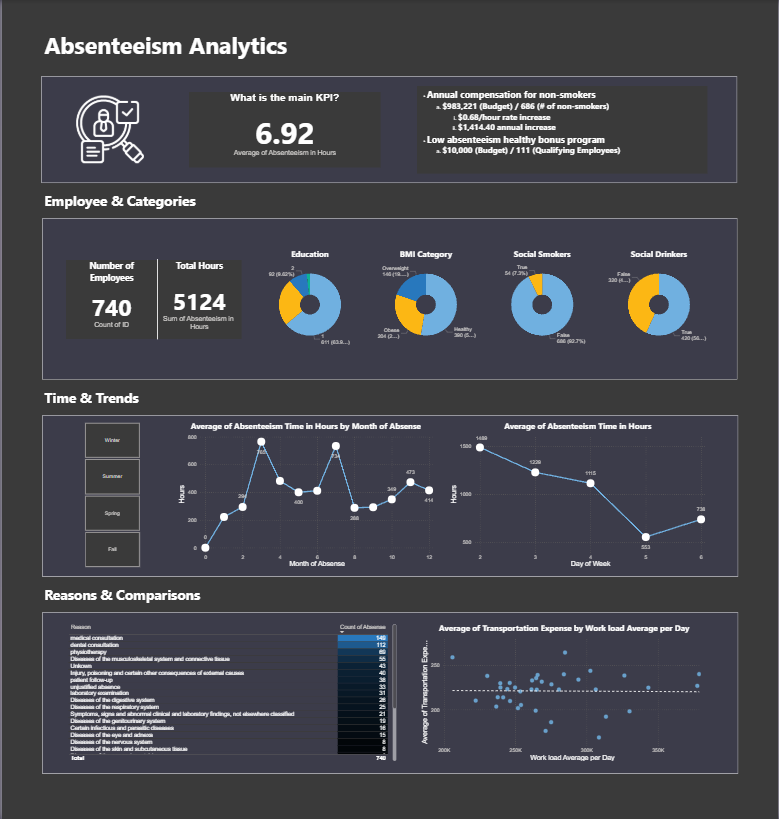

The dashboard page shown, as its layout file describes it:
{"tool":"powerbi","page":{"name":"Page 1","canvas":[1800,1900],"ordinal":0},"visuals":[{"type":"shape","box":[91.3,175.6,1613.3,248.2],"z":0},{"type":"shape","box":[92.9,505.7,1611.4,374.3],"z":1000},{"type":"shape","box":[93.3,1418.3,1613.3,375],"z":2000},{"type":"shape","box":[91.7,961.7,1613.3,375],"z":3000},{"type":"card","title":"Number of Employees","fields":{"Values":["CountNonNull(Query1.ID)"]},"box":[148.8,602.5,211.2,182.5],"z":4000},{"type":"donutChart","title":"Education","fields":{"Y":["Sum(Query1.Education)"],"Category":["Query1.Education"]},"box":[580,574.3,268.6,237.1],"z":5000},{"type":"donutChart","title":"BMI Category","fields":{"Category":["Query1.bmi_category"],"Y":["CountNonNull(Query1.bmi_category)"]},"box":[848.6,574.3,268.6,237.1],"z":6000},{"type":"donutChart","title":"Social Drinkers","fields":{"Category":["Query1.Social_drinker"],"Y":["CountNonNull(Query1.Social_drinker)"]},"box":[1387.1,574.3,268.6,237.1],"z":7000},{"type":"donutChart","title":"Social Smokers","fields":{"Category":["Query1.Social_smoker"],"Y":["CountNonNull(Query1.Social_smoker)"]},"box":[1117.1,574.3,270,237.1],"z":8000},{"type":"lineChart","title":"Average of Absenteeism Time in Hours by Month of Absense","fields":{"Category":["Query1.Month_of_absence"],"Y":["Sum(Query1.Absenteeism_time_in_hours)"]},"box":[404.3,974.3,601.4,347.1],"z":9000},{"type":"lineChart","title":"Average of Absenteeism Time in Hours","fields":{"Category":["Query1.Day_of_the_week"],"Y":["Sum(Query1.Absenteeism_time_in_hours)"]},"box":[1032.9,974.3,601.4,347.1],"z":10000},{"type":"tableEx","fields":{"Values":["Query1.Reason","CountNonNull(Query1.Reason)"]},"box":[148.6,1441.4,771.4,327.1],"z":11000},{"type":"scatterChart","title":"Average of Transportation Expense by Work load Average per Day","fields":{"Y":["Avg(Query1.Transportation_expense)"],"X":["Query1.Work_load_average_day"]},"box":[967.1,1441.4,672.9,327.1],"z":12000},{"type":"card","title":"Total Hours","fields":{"Values":["Sum(Query1.Absenteeism_time_in_hours)"]},"box":[360,602.5,196.2,182.5],"z":13000},{"type":"card","title":"What is the main KPI?","fields":{"Values":["Avg(Query1.Absenteeism_time_in_hours)"]},"box":[432.9,214.3,444.3,175],"z":14000},{"type":"shape","box":[345,600,30,186.7],"z":15000},{"type":"slicer","fields":{"Values":["Query1.season_names"]},"box":[165.7,974.3,175.7,347.1],"z":16000},{"type":"textbox","box":[93.7,63.2,1491.5,105.4],"z":17000},{"type":"textbox","box":[91.7,895,1491.7,66.7],"z":18000},{"type":"textbox","box":[91.7,1351.7,1491.7,66.7],"z":19000},{"type":"textbox","box":[91.7,438.3,1491.7,66.7],"z":20000},{"type":"image","box":[165.7,198.6,167.1,200],"z":21000},{"type":"textbox","box":[1586,18,150,150],"z":22000},{"type":"textbox","box":[961.4,198.6,672.9,202.9],"z":23000}]}

Visuals, with their boxes in screenshot pixels (x1, y1, x2, y2), scaled from the page's 1800x1900 canvas onto the 779x819 screenshot:
shape: (40, 76, 738, 183)
shape: (40, 218, 738, 379)
shape: (40, 611, 739, 773)
shape: (40, 415, 738, 576)
"Number of Employees" card: (64, 260, 156, 338)
"Education" donutChart: (251, 248, 367, 350)
"BMI Category" donutChart: (367, 248, 483, 350)
"Social Drinkers" donutChart: (600, 248, 717, 350)
"Social Smokers" donutChart: (483, 248, 600, 350)
"Average of Absenteeism Time in Hours by Month of Absense" lineChart: (175, 420, 435, 570)
"Average of Absenteeism Time in Hours" lineChart: (447, 420, 707, 570)
tableEx - Query1.Reason x CountNonNull(Query1.Reason): (64, 621, 398, 762)
"Average of Transportation Expense by Work load Average per Day" scatterChart: (419, 621, 710, 762)
"Total Hours" card: (156, 260, 241, 338)
"What is the main KPI?" card: (187, 92, 380, 168)
shape: (149, 259, 162, 339)
slicer - Query1.season_names: (72, 420, 148, 570)
textbox: (41, 27, 686, 73)
textbox: (40, 386, 685, 415)
textbox: (40, 583, 685, 611)
textbox: (40, 189, 685, 218)
image: (72, 86, 144, 172)
textbox: (686, 8, 751, 72)
textbox: (416, 86, 707, 173)
